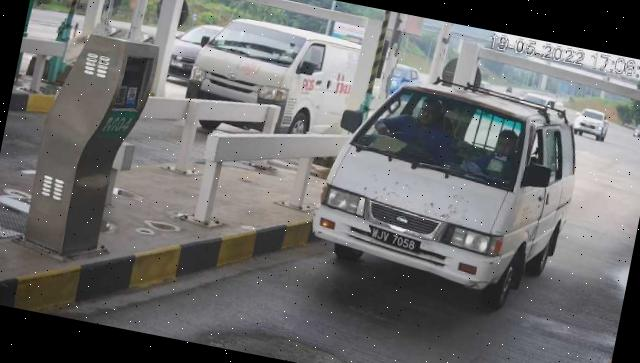License_Plate: (366, 224, 425, 257)
van: (303, 60, 591, 320)
